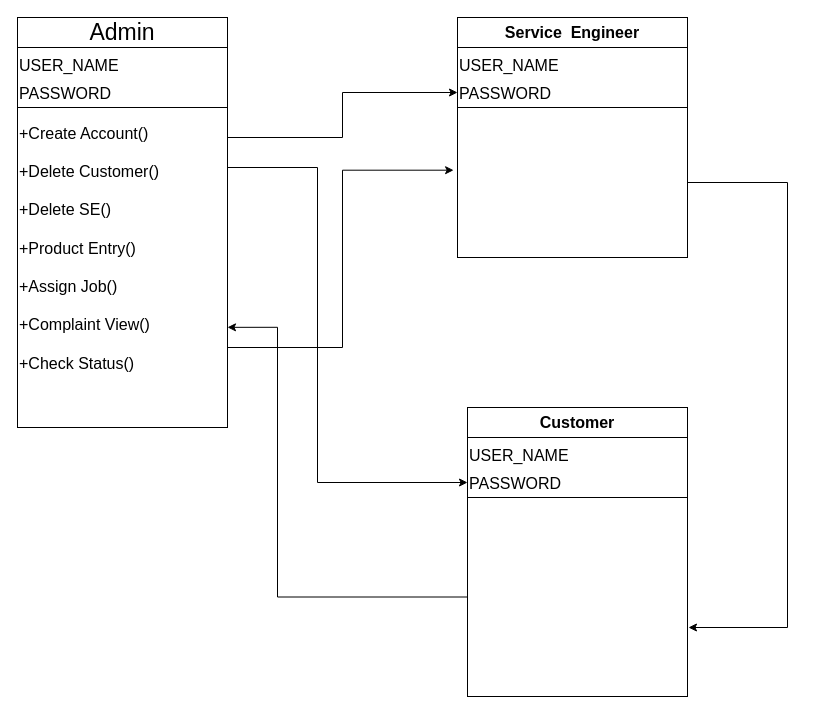
Image size: 813x714. Some labels were removed from this diagram. Here are the shapes that lost their labels. From the top down, the centre of each, then its label:
(572,182): +View Assigned job() +Update Status() +Change Password()
(577,596): +Book Service Date() +View Service Details() +Post Complaints() +View Status()
